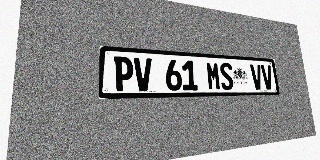1: (181, 60, 198, 90)
6: (165, 59, 182, 91)
M: (206, 62, 221, 90)
P: (114, 56, 134, 91)
S: (219, 62, 234, 90)
V: (134, 57, 153, 91), (250, 64, 264, 90), (261, 65, 274, 90)
